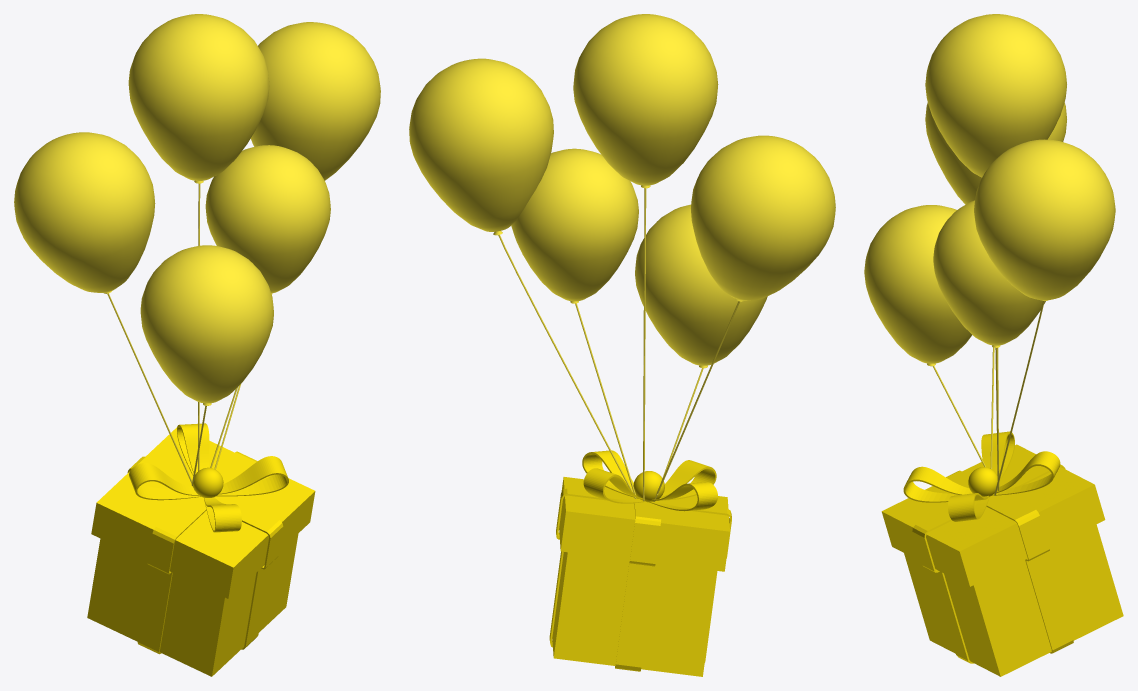
File: present.glb
3 views of the same model, side by side, from view 1: azimuth 30°, elevation 25°; view 2: azimuth 150°, elevation 25°; view 3: azimuth 270°, elevation 25° (orthographic). The views are drawn at different scales.
Visible parts, largest first — view 1: box, balloon1, balloon2, balloon5, balloon3, balloon4; view 2: box, balloon3, balloon1, balloon2, balloon4, balloon5, st1, st3; view 3: box, balloon3, balloon1, balloon5, balloon4, balloon2, st3.
Part boxes in pixels (<box>): box: <box>87,423,315,676</box>; balloon1: <box>128,14,269,183</box>; balloon2: <box>14,132,155,293</box>; balloon5: <box>140,245,273,405</box>; balloon3: <box>250,22,380,180</box>; balloon4: <box>205,145,330,294</box>; box: <box>549,450,731,676</box>; balloon3: <box>409,58,553,235</box>; balloon1: <box>573,14,718,188</box>; balloon2: <box>691,135,835,301</box>; balloon4: <box>511,148,638,303</box>; balloon5: <box>635,204,767,368</box>; st1: <box>643,188,646,501</box>; st3: <box>498,235,636,498</box>; box: <box>881,431,1123,676</box>; balloon3: <box>974,139,1115,301</box>; balloon1: <box>925,14,1066,177</box>; balloon5: <box>864,205,971,366</box>; balloon4: <box>933,200,1045,347</box>; balloon2: <box>925,102,1066,204</box>; st3: <box>994,301,1044,495</box>.
Bounding box in the file's own units: 1.17 × 1.89 × 0.7061.
